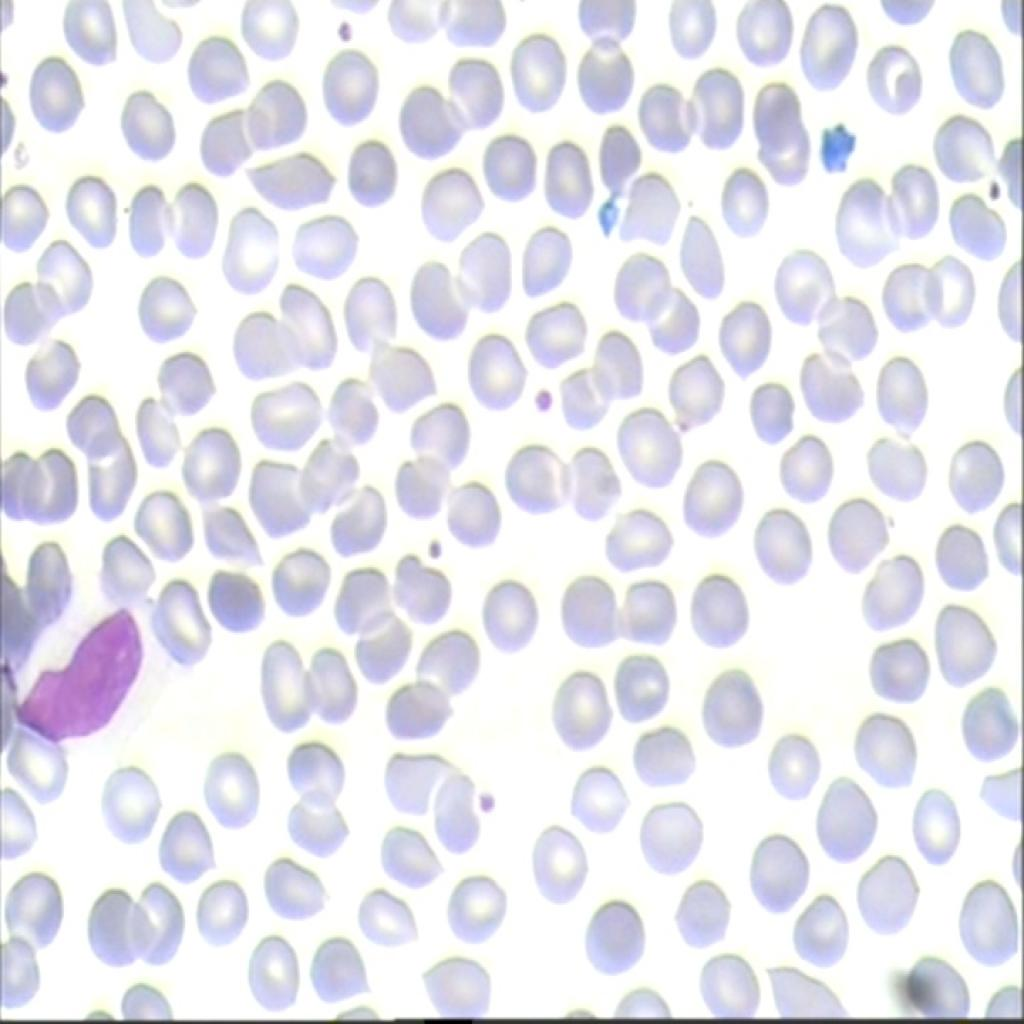Monosit: (0, 592, 152, 748)
Platelet: (812, 118, 866, 190), (530, 373, 568, 427), (416, 526, 452, 576), (476, 773, 504, 827), (334, 12, 357, 52)
